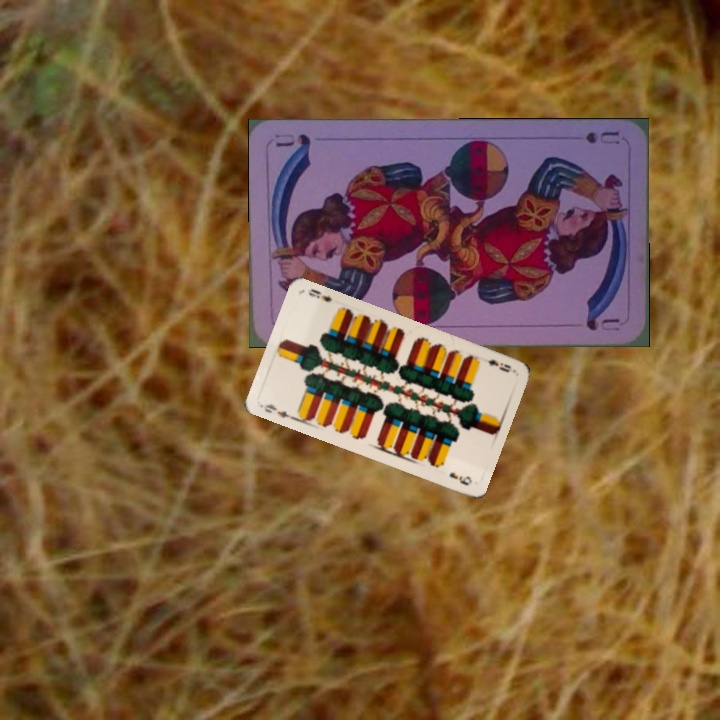E9: (257, 400, 297, 422), (484, 355, 516, 375)
SU: (581, 127, 622, 146)
